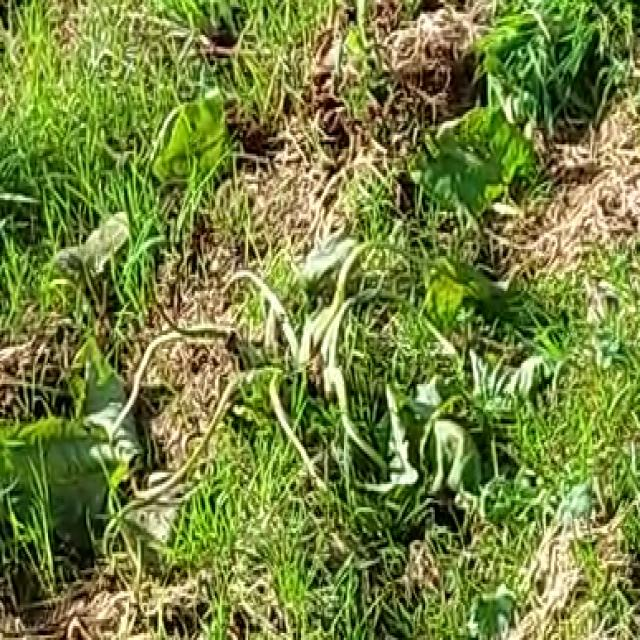organic waste: (0, 60, 571, 547)
